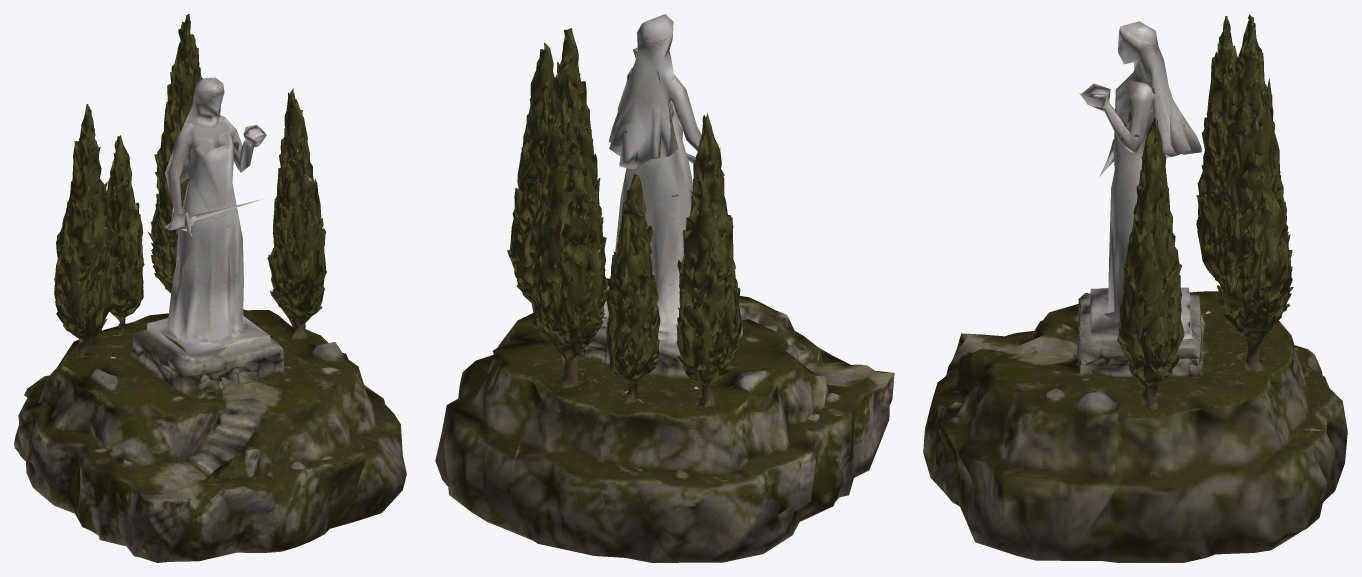
The model's file is m_tb_kartlisdeda.glb.
3 renders of one model, left to right at view 1: azimuth 30°, elevation 25°; view 2: azimuth 150°, elevation 25°; view 3: azimuth 270°, elevation 25°, orthographic. The views are drawn at different scales.
Bounding box in the file's own units: 0.9484 × 1.27 × 0.9996.
1 material, 1 textured.
